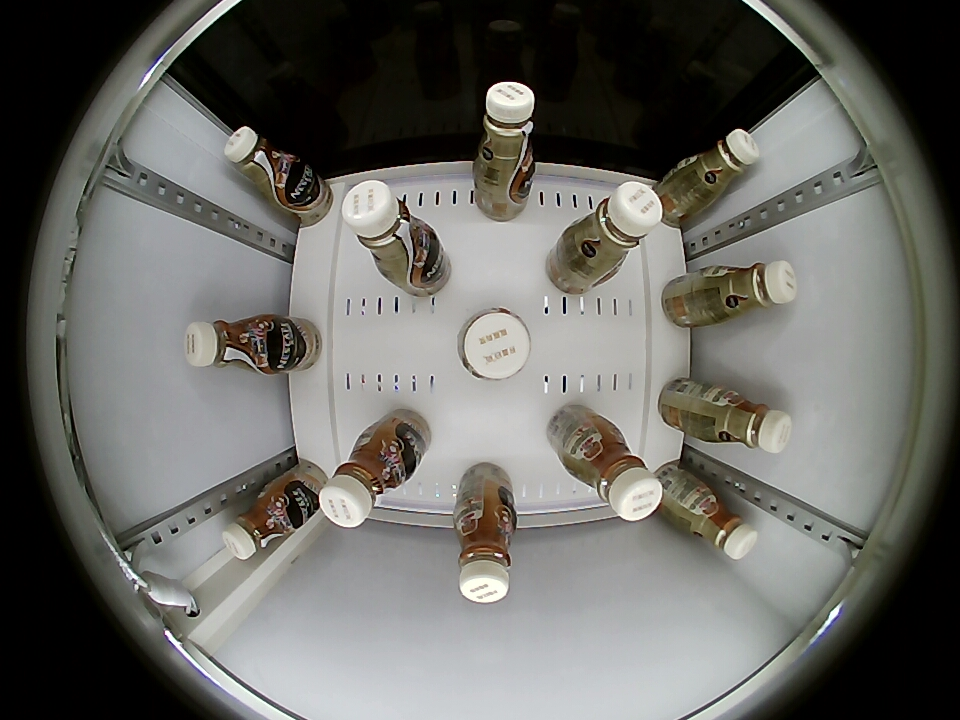kafei: (568, 180, 664, 277), (567, 427, 663, 522), (319, 432, 412, 529), (342, 179, 435, 274), (670, 485, 758, 559), (454, 501, 517, 603), (473, 81, 537, 181), (224, 126, 306, 203), (703, 387, 792, 453), (678, 129, 760, 200), (222, 487, 299, 560), (456, 308, 532, 381), (185, 316, 272, 375), (711, 261, 797, 320)
